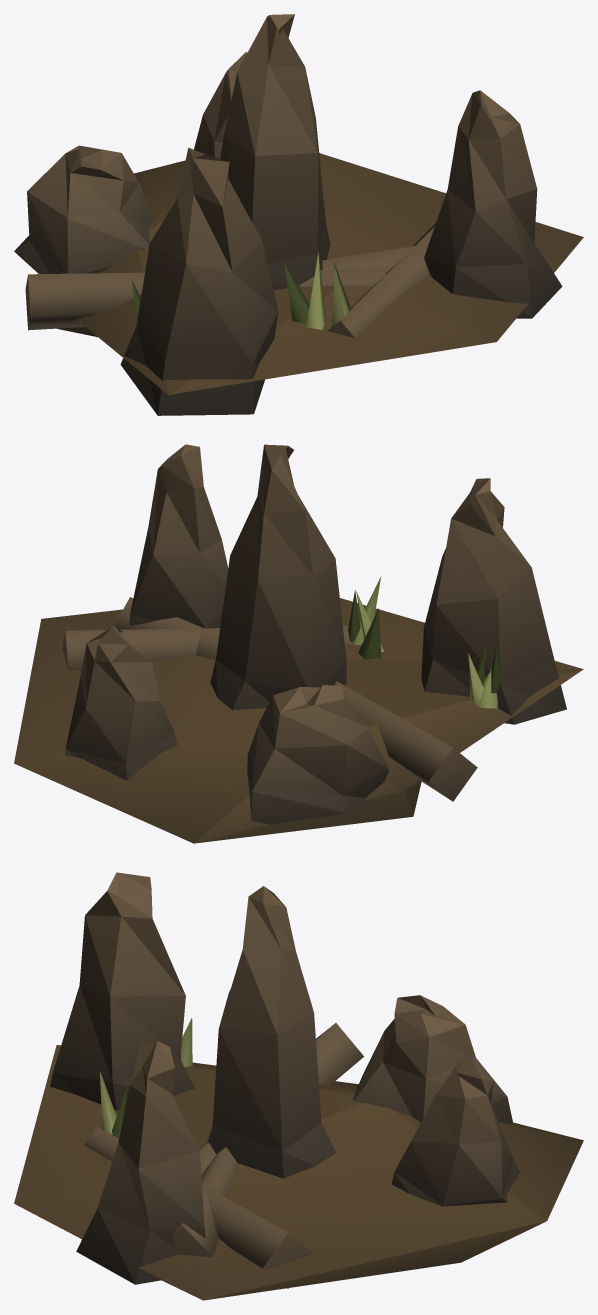
File: cypress-knee-cluster.glb
3 views of the same model, one above another, from view 1: azimuth 30°, elevation 25°; view 2: azimuth 150°, elevation 25°; view 3: azimuth 270°, elevation 25° (orthographic). The views are drawn at different scales.
Visible parts, largest first — view 1: cypress_knee_cluster; view 2: cypress_knee_cluster; view 3: cypress_knee_cluster.
Part boxes in pixels (<box>): cypress_knee_cluster: <box>14,14,583,415</box>; cypress_knee_cluster: <box>14,444,583,843</box>; cypress_knee_cluster: <box>14,872,583,1300</box>.
Bounding box in the file's own units: 1.41 × 0.8135 × 1.37.
